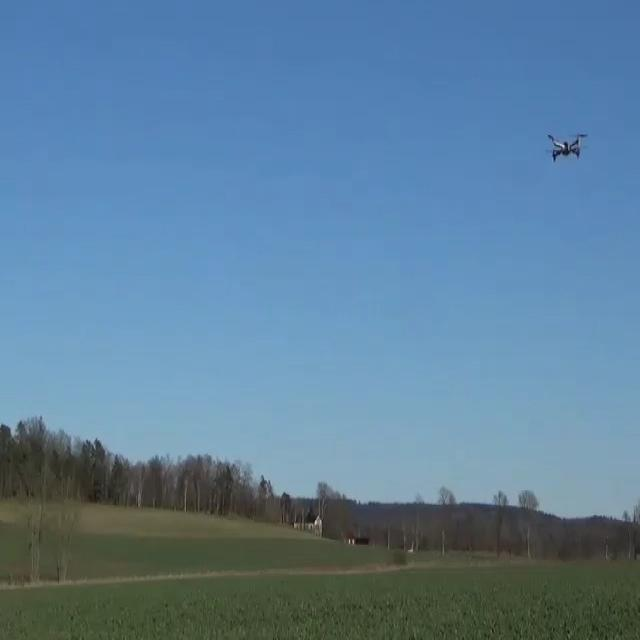drone: (546, 132, 587, 162)
